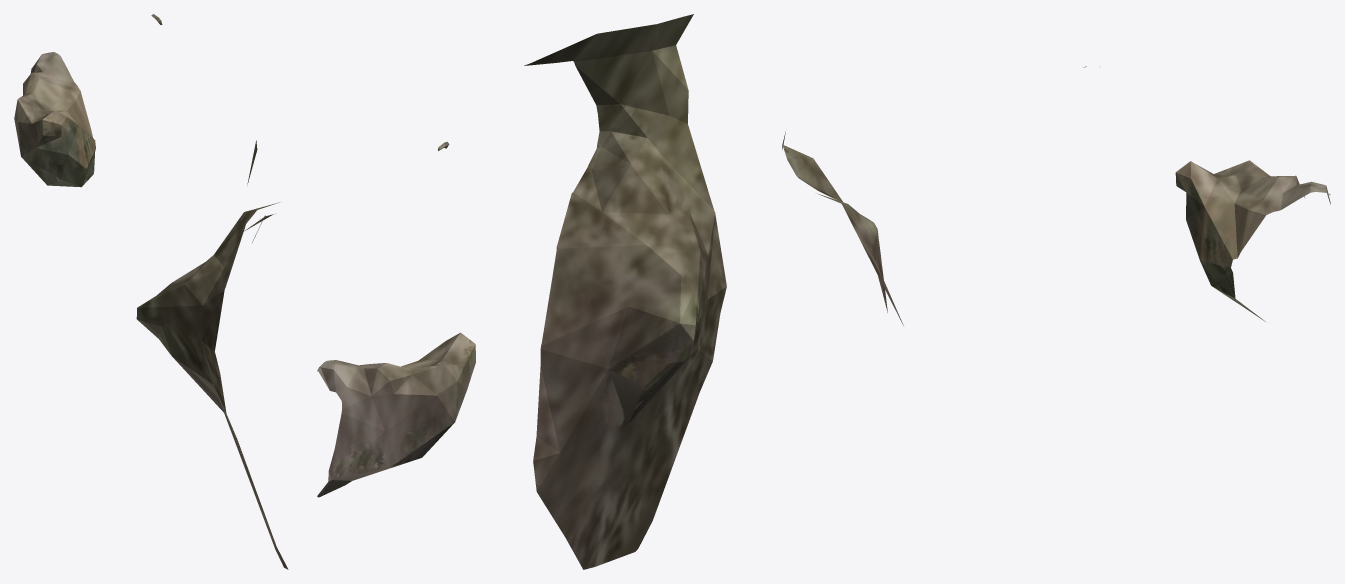
The picture shows the model from 3 angles, left to right: view 1: azimuth 30°, elevation 25°; view 2: azimuth 150°, elevation 25°; view 3: azimuth 270°, elevation 25°; orthographic projection. The views are drawn at different scales.
Size of the model in its own units: 0.7808 by 2.95 by 2.95.
1 material, 1 textured.
